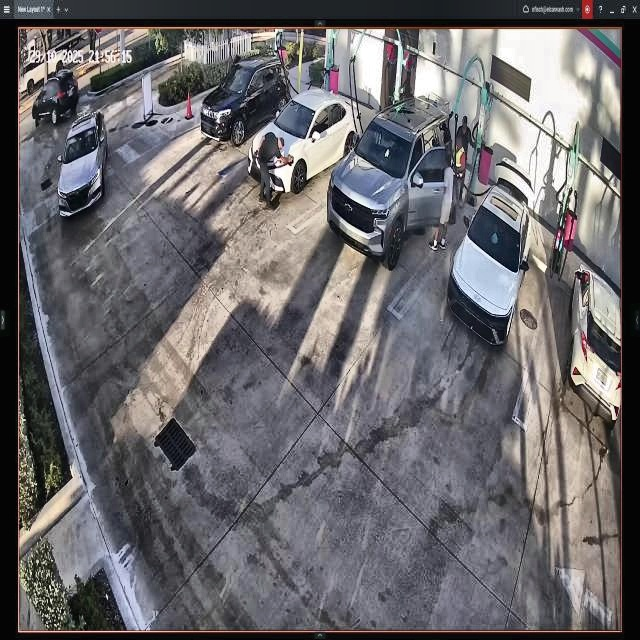Car: (330, 95, 458, 266), (449, 164, 534, 346), (248, 92, 358, 190)
